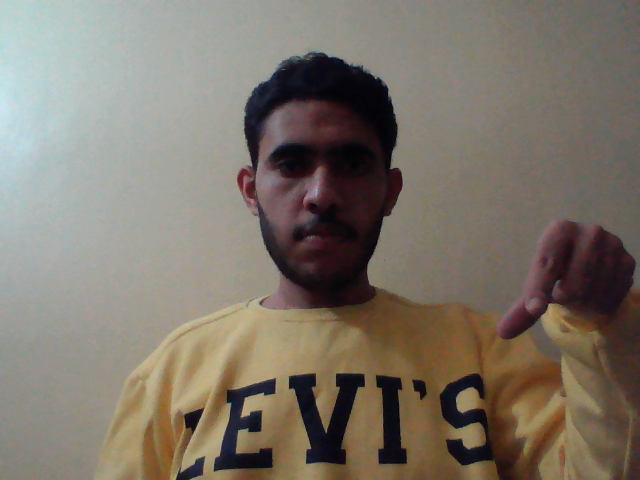Q: (496, 215, 638, 349)
